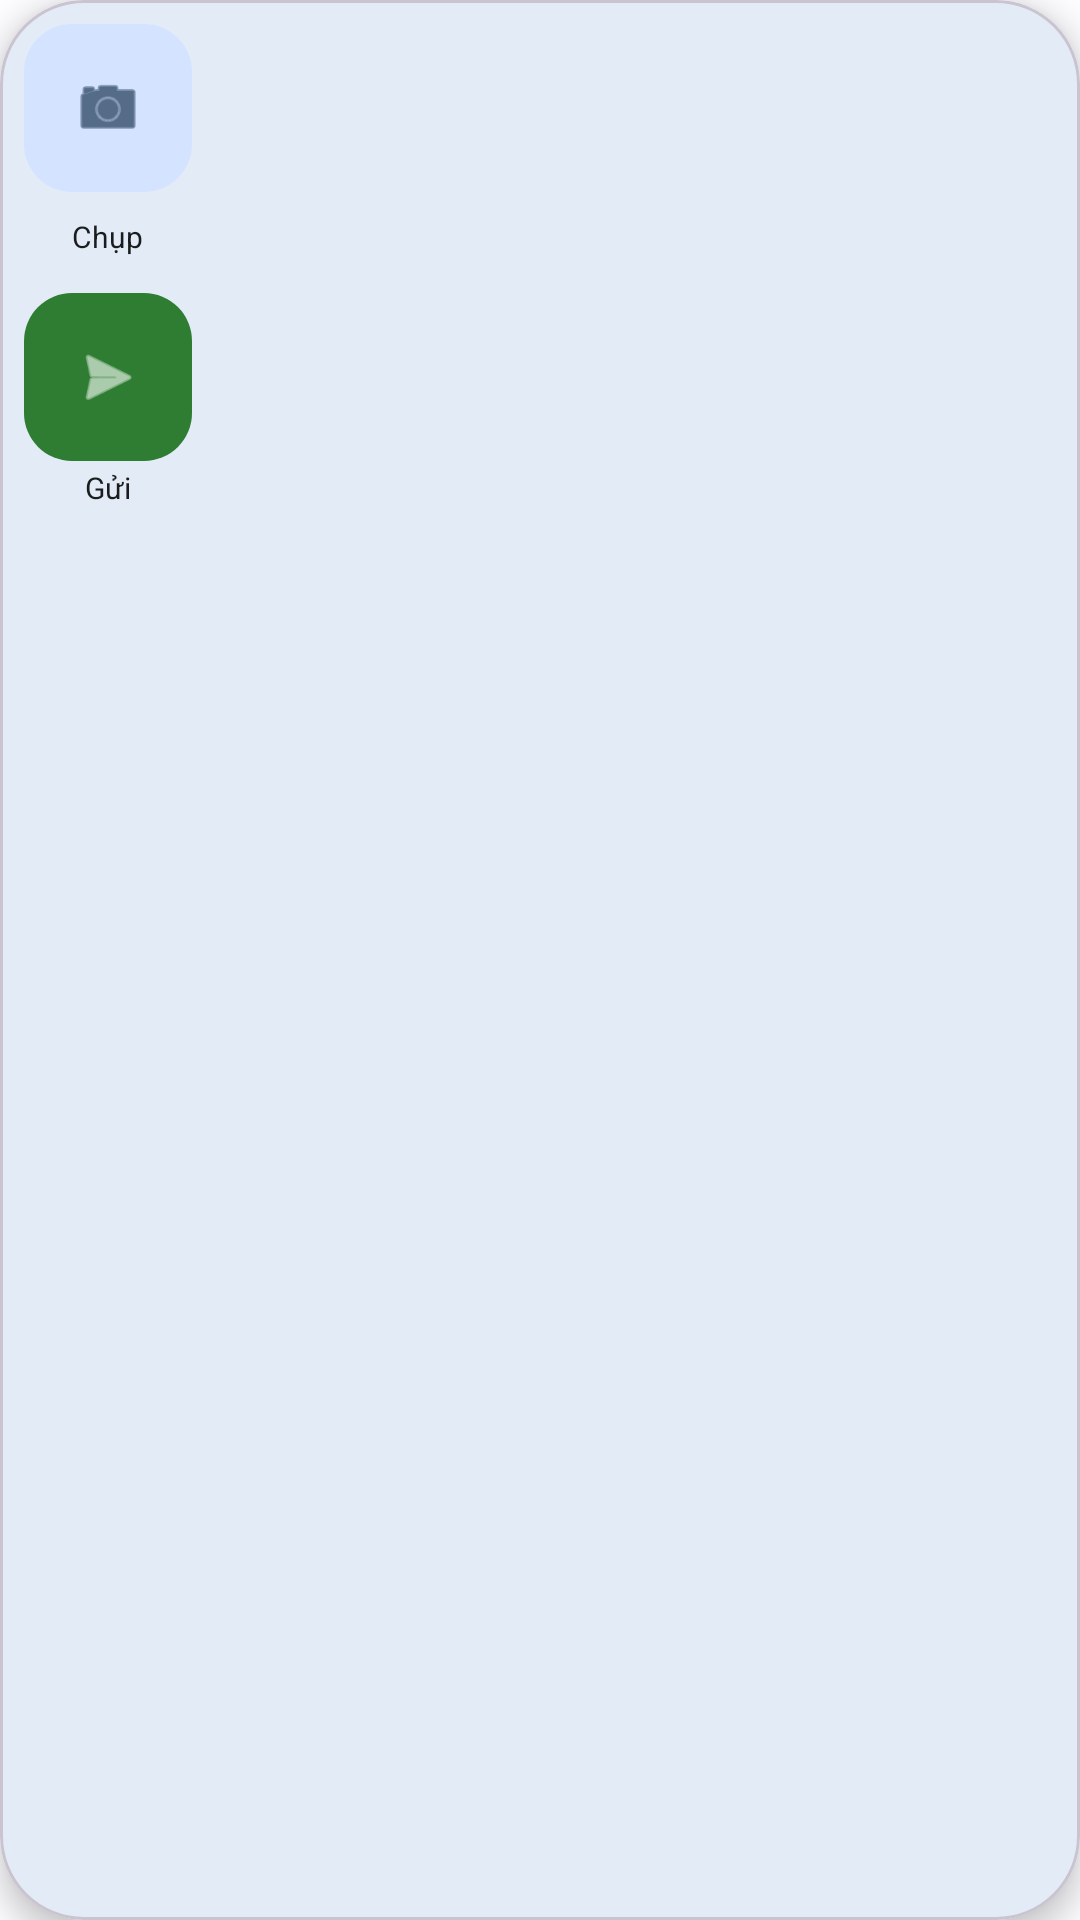

Point at icon controls on the screen. Image size 1080×1920, points as point (x, y).
camera: point (108, 107)
